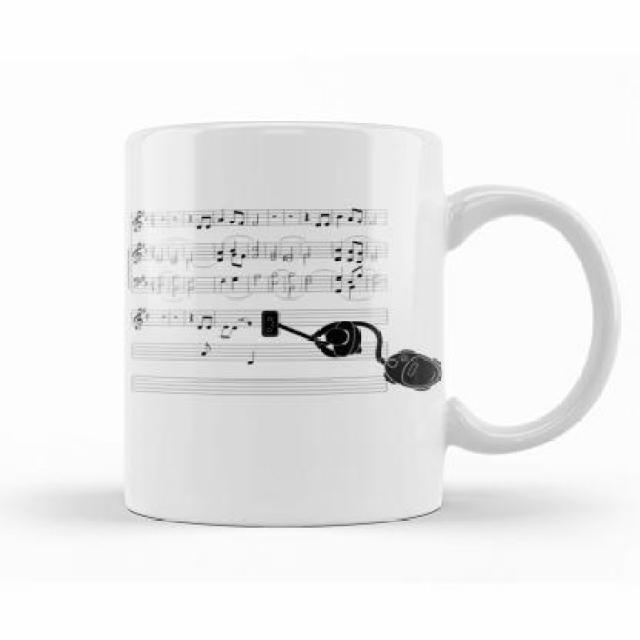taza: (123, 123, 620, 530)
